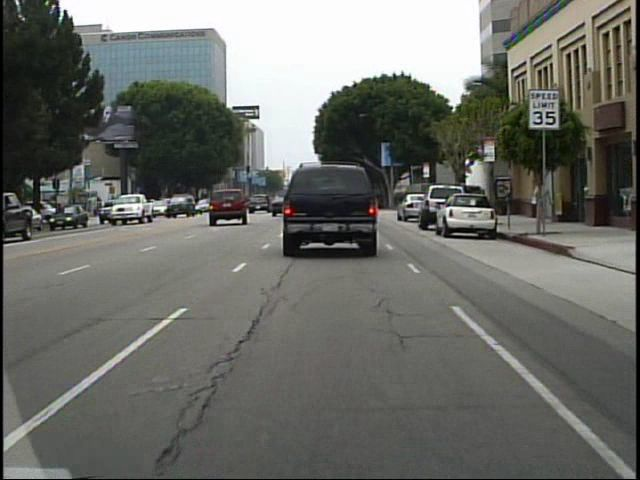person: (533, 178, 554, 228), (457, 181, 473, 219)
